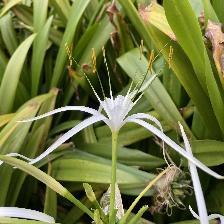spider lily: (78, 82, 169, 156)
